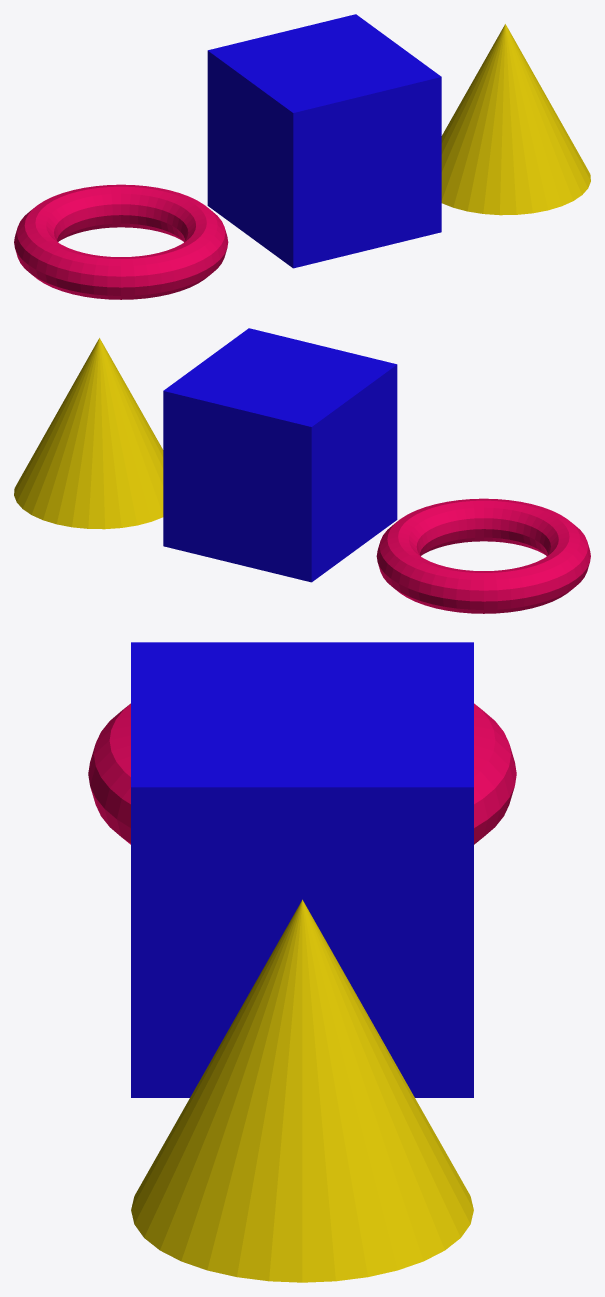
The picture shows the model from 3 angles, top to bottom: view 1: azimuth 30°, elevation 25°; view 2: azimuth 150°, elevation 25°; view 3: azimuth 270°, elevation 25°; orthographic projection. The views are drawn at different scales.
Parts seen in each view (by area): view 1: Cube, Cone, Torus; view 2: Cube, Cone, Torus; view 3: Cube, Cone, Torus.
Part boxes in pixels (x1=…): Cube: x1=207, y1=14, x2=441, y2=268; Cone: x1=441, y1=24, x2=590, y2=215; Torus: x1=14, y1=184, x2=228, y2=299; Cube: x1=163, y1=328, x2=397, y2=582; Cone: x1=14, y1=338, x2=163, y2=529; Torus: x1=376, y1=498, x2=590, y2=613; Cube: x1=131, y1=642, x2=473, y2=1097; Cone: x1=131, y1=899, x2=473, y2=1282; Torus: x1=88, y1=703, x2=516, y2=844.
Bounding box in the file's own units: 7.43 × 2.05 × 2.5.
